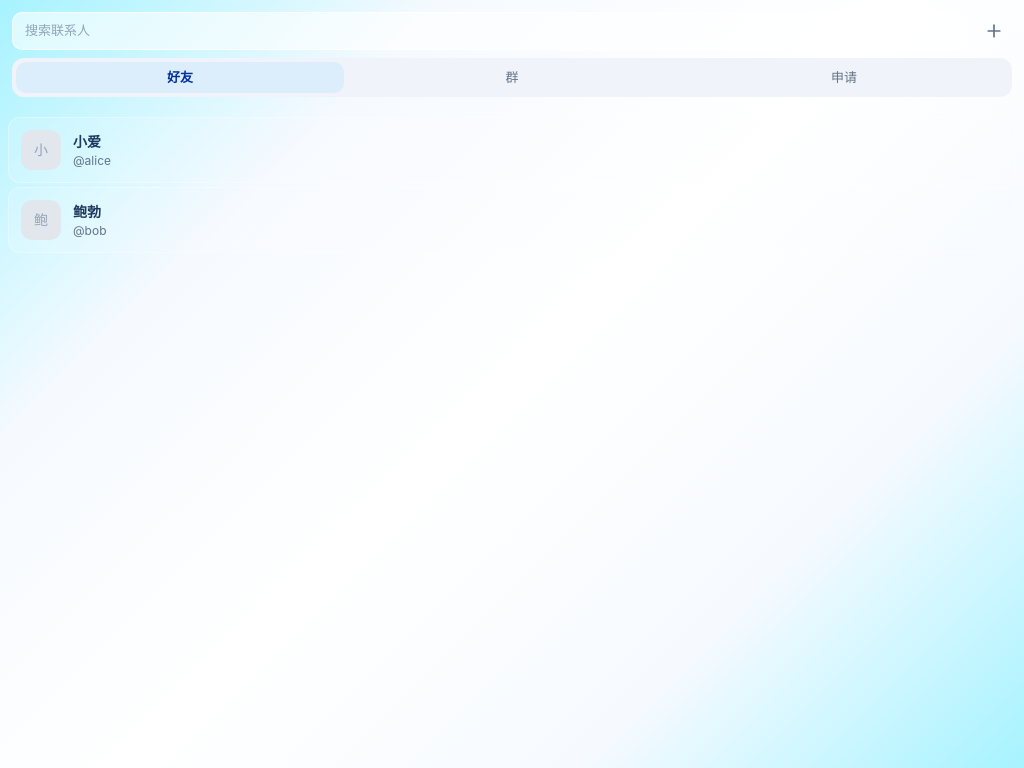
Scenario: ContactsList › 搜索框按名字过滤；无匹配给提示
Type "鲍" into the field with placeholder "搜索联系人" at (490, 31), box [12,12,968,50]
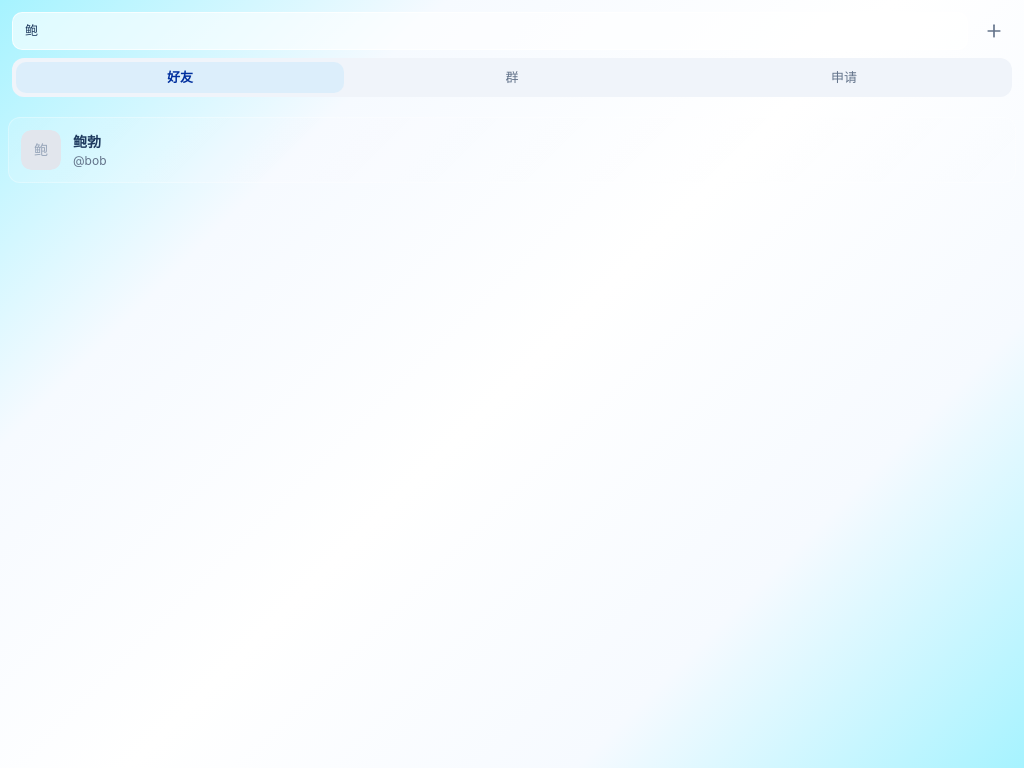
Expected: the link "鲍 鲍勃 @bob" is shown, [8,117,1016,183]
Expected: the link "小爱" is gone
Replace the text in the field with placeholder "搜索联系人" with "zzz" at (490, 31), box [12,12,968,50]
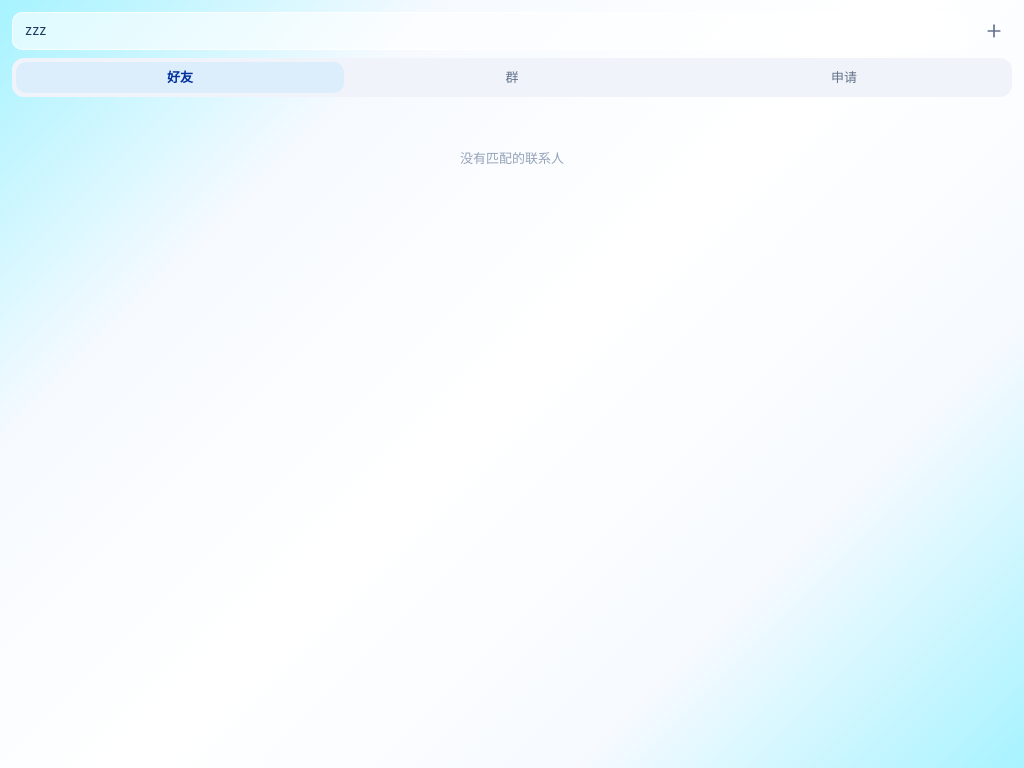
Expected: the text "没有匹配的联系人" is shown, [460,149,564,168]
